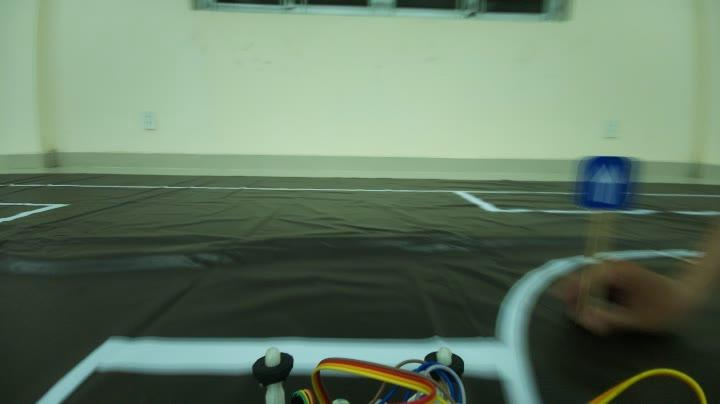onewayroad: (579, 150, 635, 215)
